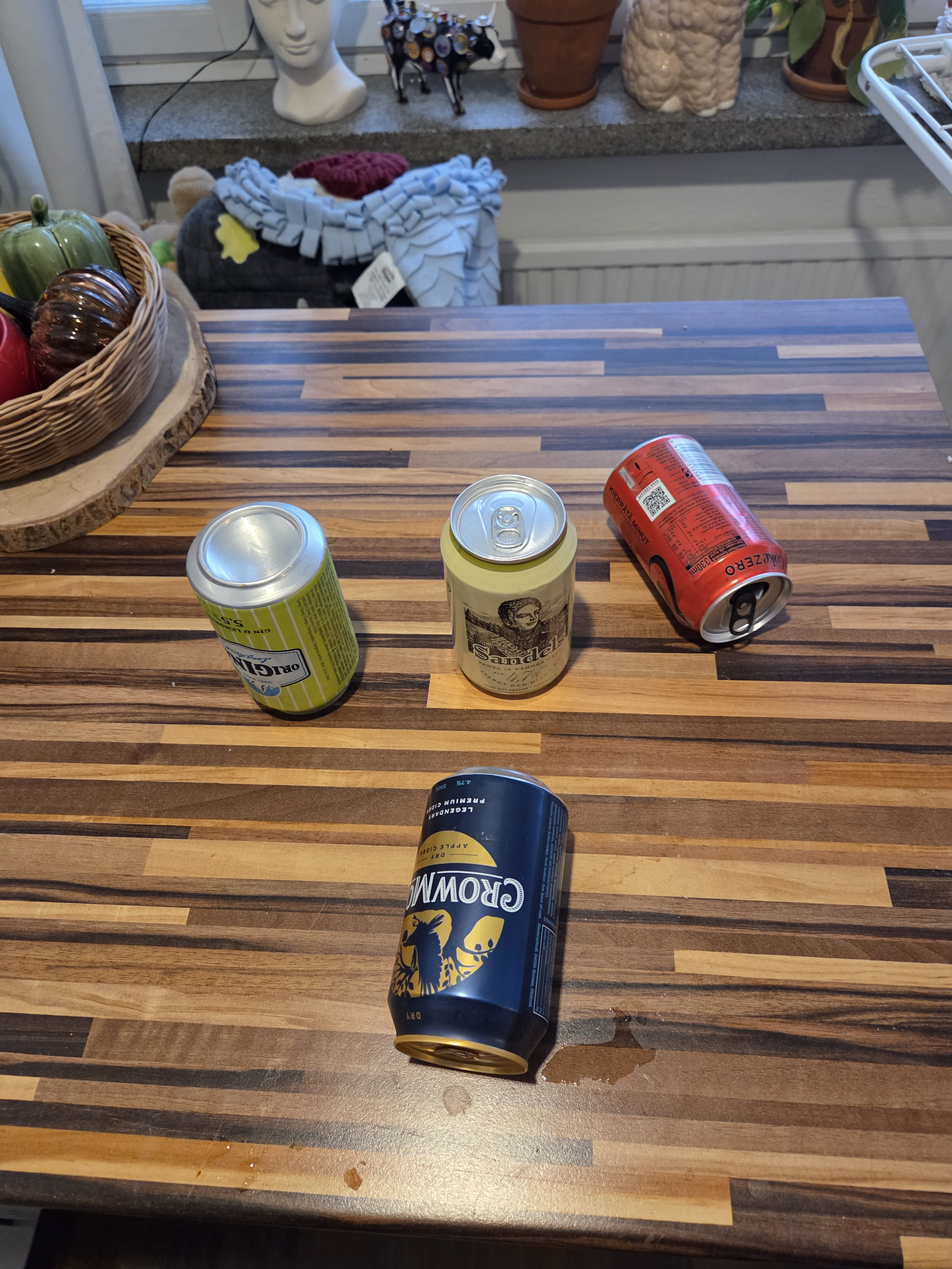Pantburk: (387, 766, 570, 1076), (602, 433, 792, 643), (185, 501, 360, 713), (438, 474, 579, 698)
